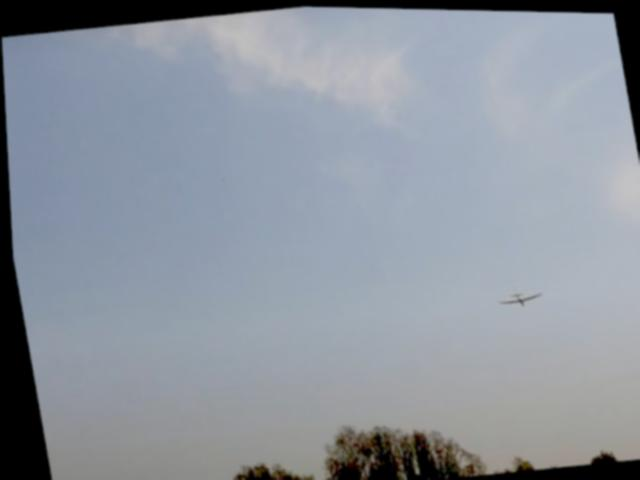iha: (486, 278, 544, 309)
